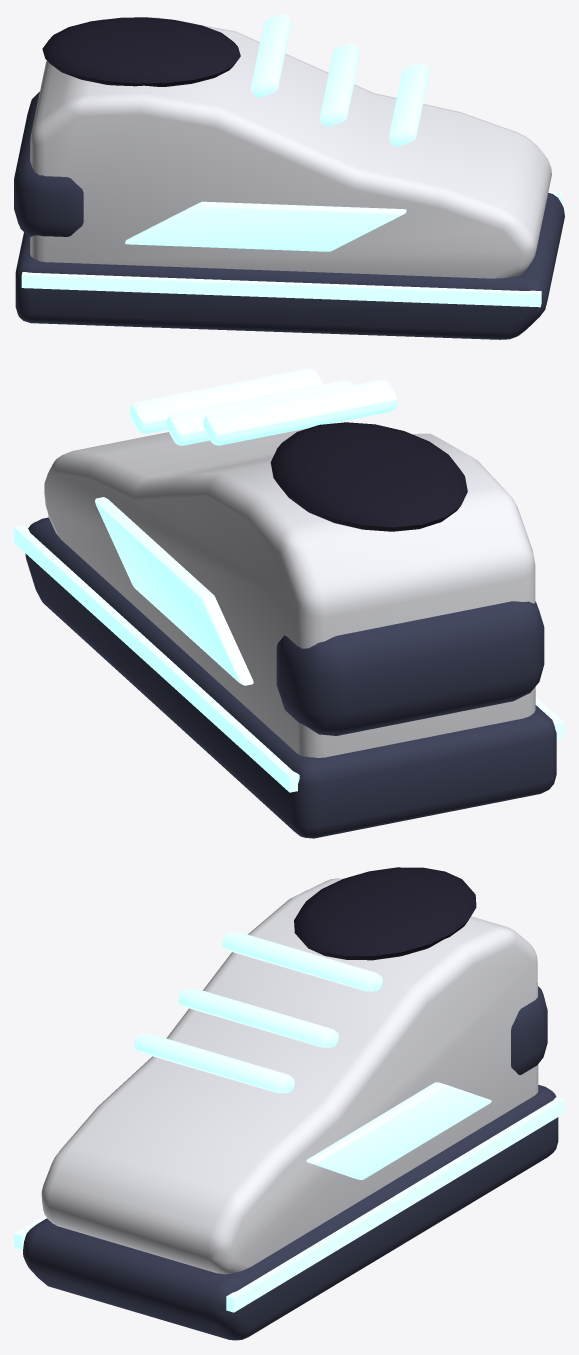
Rendered from Sneakers.fbx.
The picture shows the model from 3 angles, top to bottom: view 1: azimuth 30°, elevation 25°; view 2: azimuth 150°, elevation 25°; view 3: azimuth 270°, elevation 25°; orthographic projection. The views are drawn at different scales.
Visible parts, largest first — view 1: Sneakers_Body, Sneakers_Trim, Sneakers_Neon, Sneakers_Liner; view 2: Sneakers_Body, Sneakers_Trim, Sneakers_Neon, Sneakers_Liner; view 3: Sneakers_Body, Sneakers_Trim, Sneakers_Neon, Sneakers_Liner.
Boxes of the visible parts, <box> form: Sneakers_Body: <box>30,17,551,278</box>; Sneakers_Trim: <box>14,91,564,339</box>; Sneakers_Neon: <box>21,14,561,307</box>; Sneakers_Liner: <box>42,17,240,86</box>; Sneakers_Body: <box>44,428,535,757</box>; Sneakers_Trim: <box>25,517,556,838</box>; Sneakers_Neon: <box>14,368,564,792</box>; Sneakers_Liner: <box>270,422,467,531</box>; Sneakers_Body: <box>41,878,538,1274</box>; Sneakers_Trim: <box>23,986,558,1340</box>; Sneakers_Neon: <box>14,932,564,1312</box>; Sneakers_Liner: <box>294,867,476,960</box>.
Size of the model in its own units: 3 by 1.45 by 2.64.
